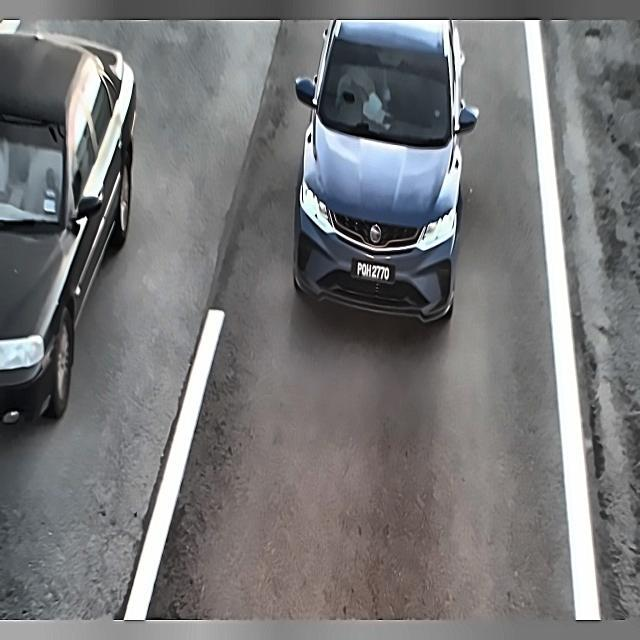car: (346, 251, 398, 290)
